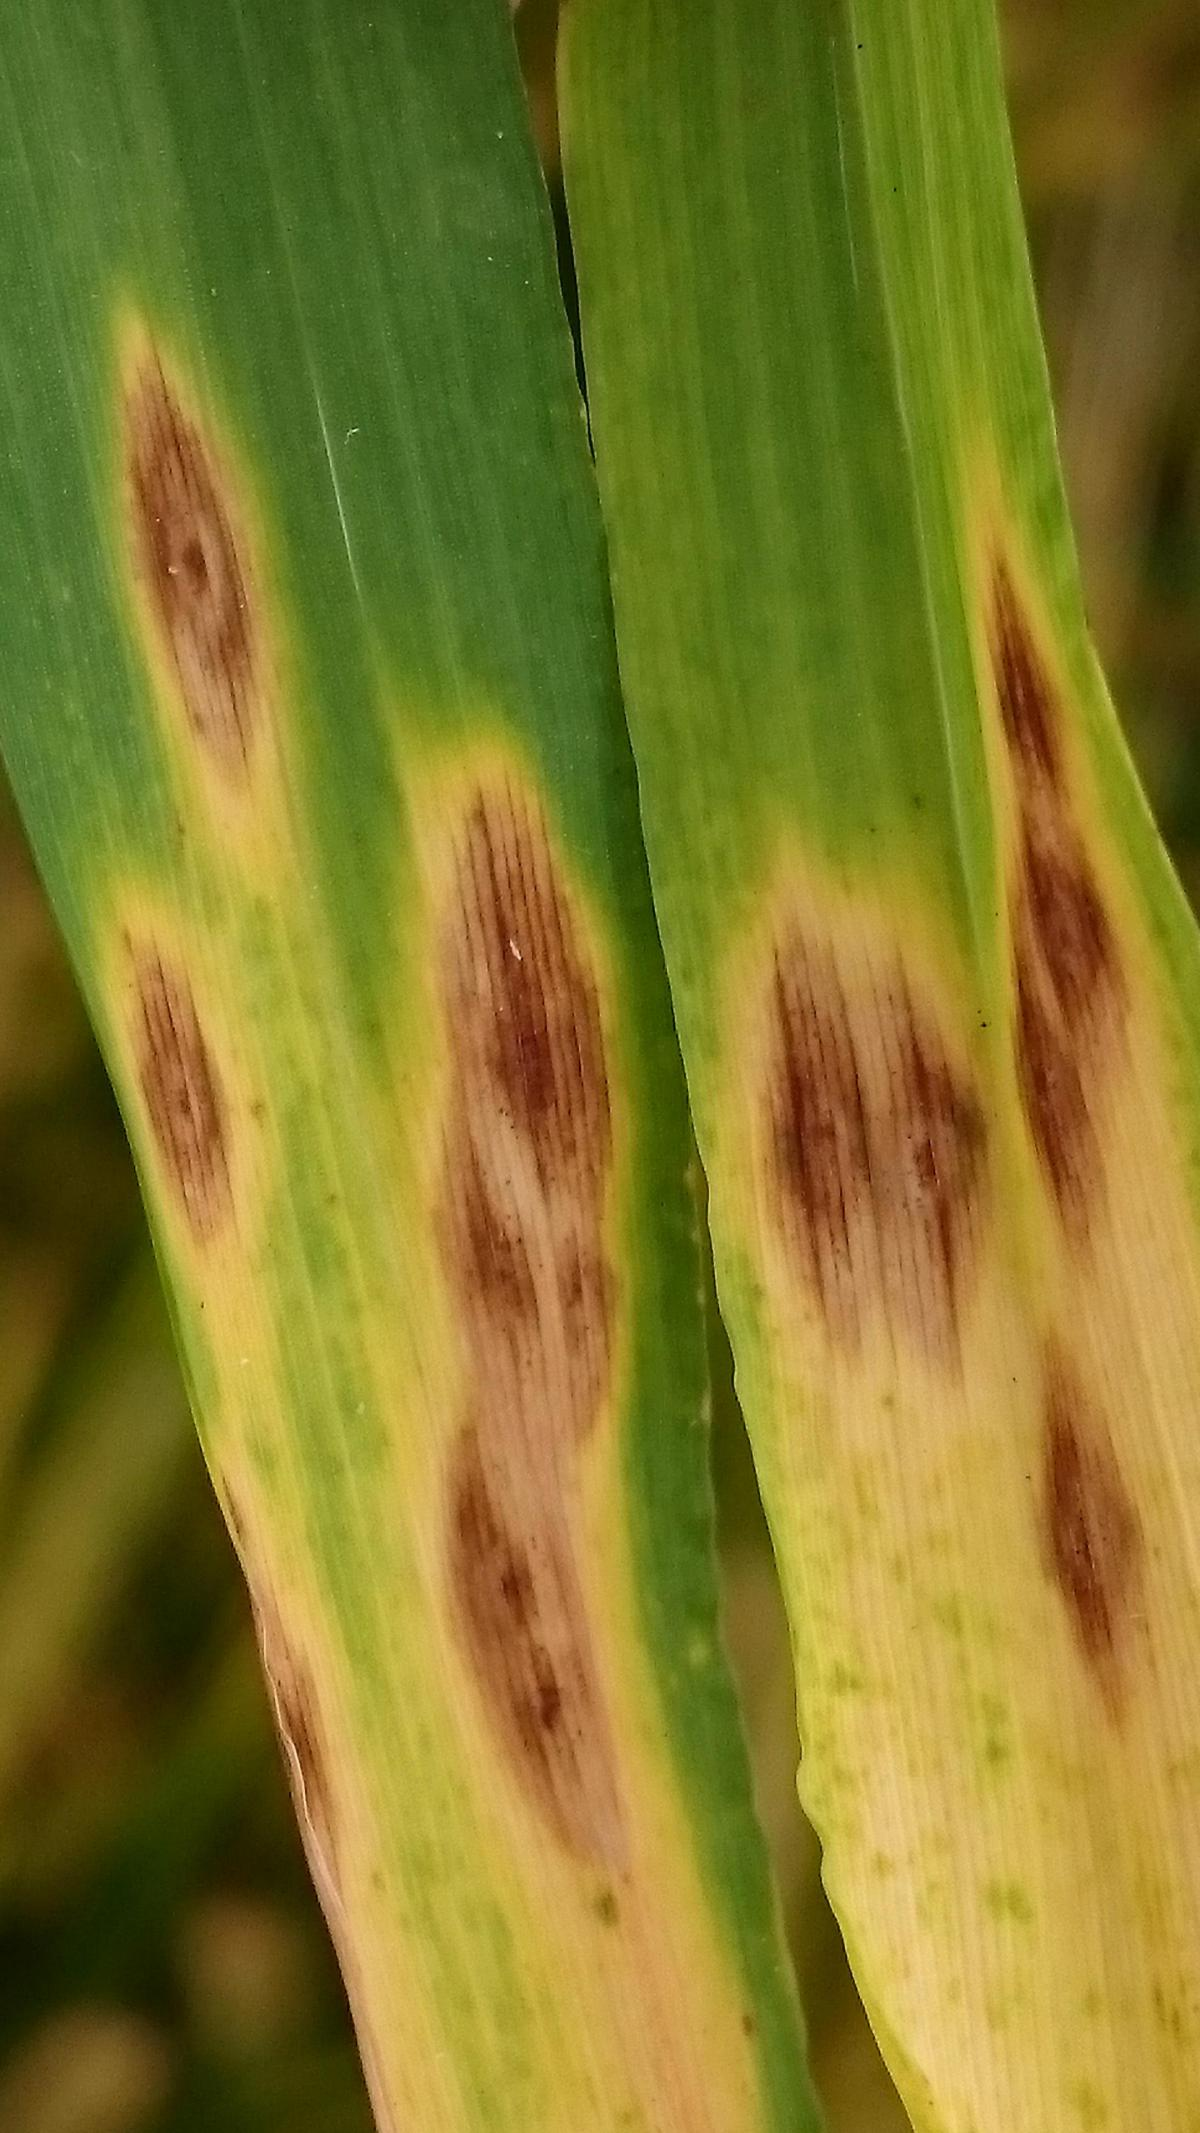Leaf: (12, 18, 762, 2089)
Tan Spot: (380, 773, 687, 1916), (955, 521, 1160, 1775), (739, 839, 1007, 1414), (112, 339, 292, 827), (89, 921, 260, 1241)
